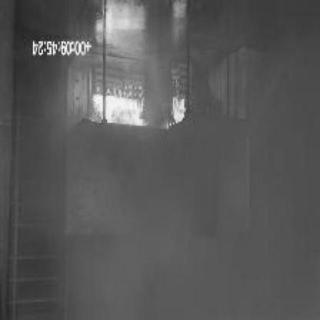Fire: (91, 85, 197, 133)
